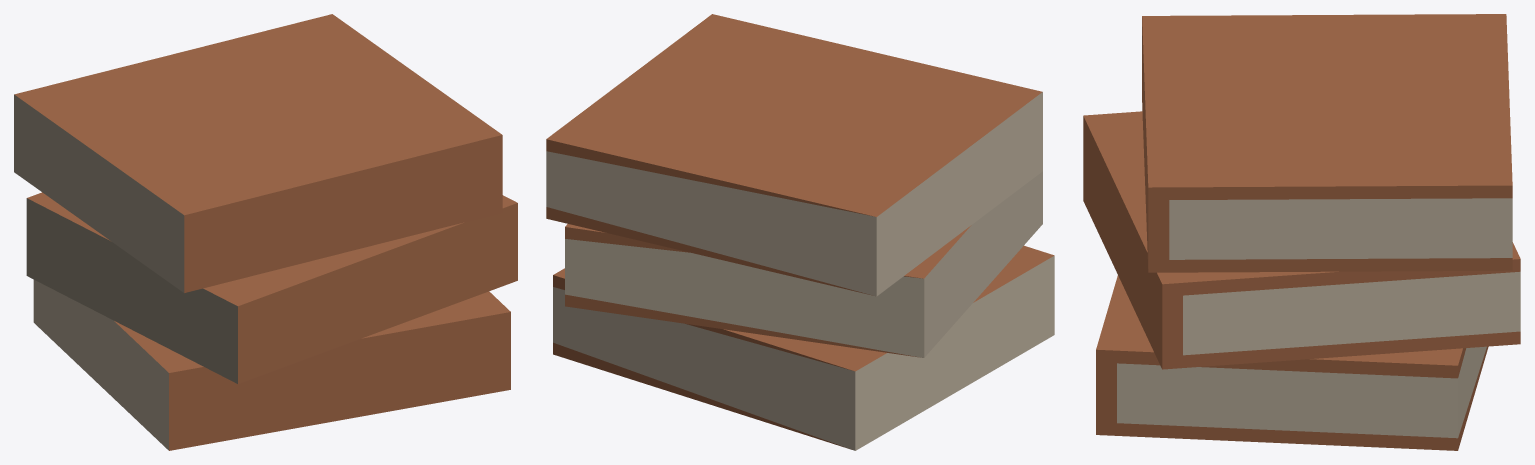
File: SM_Prop_Book_Group_05.fbx
3 renders of one model, left to right at view 1: azimuth 30°, elevation 25°; view 2: azimuth 150°, elevation 25°; view 3: azimuth 270°, elevation 25°, orthographic. The views are drawn at different scales.
Visible parts, largest first — view 1: SM_Prop_Book_Group_05; view 2: SM_Prop_Book_Group_05; view 3: SM_Prop_Book_Group_05.
Part boxes in pixels (<box>): SM_Prop_Book_Group_05: <box>14,14,517,450</box>; SM_Prop_Book_Group_05: <box>546,14,1054,450</box>; SM_Prop_Book_Group_05: <box>1083,14,1520,450</box>.
Size of the model in its own units: 36.9 by 22.68 by 35.15.
